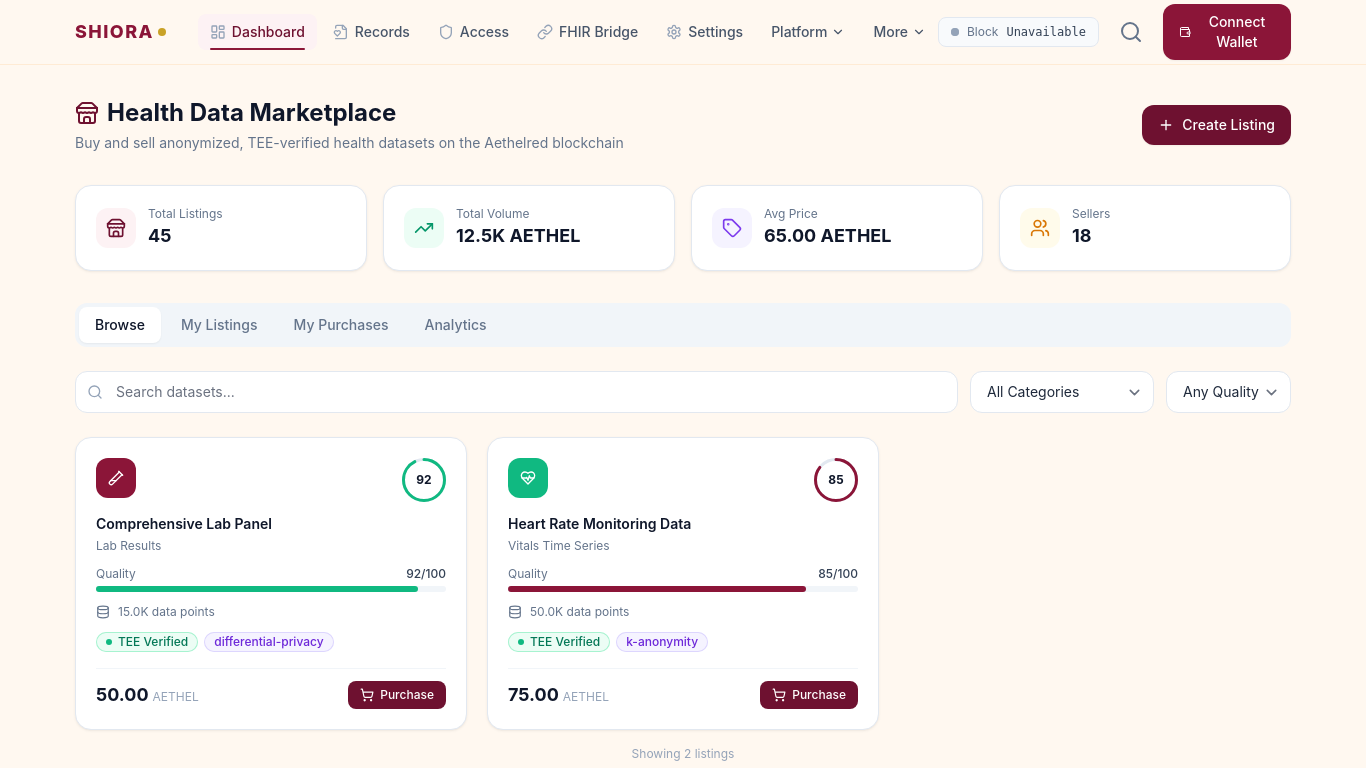
MarketplacePage › confirms purchase button is disabled when wallet balance is zero
The width and height of the screenshot is (1366, 768).
Click the button "Purchase" in the row of "50.00" at (397, 695), box [348,681,446,709]
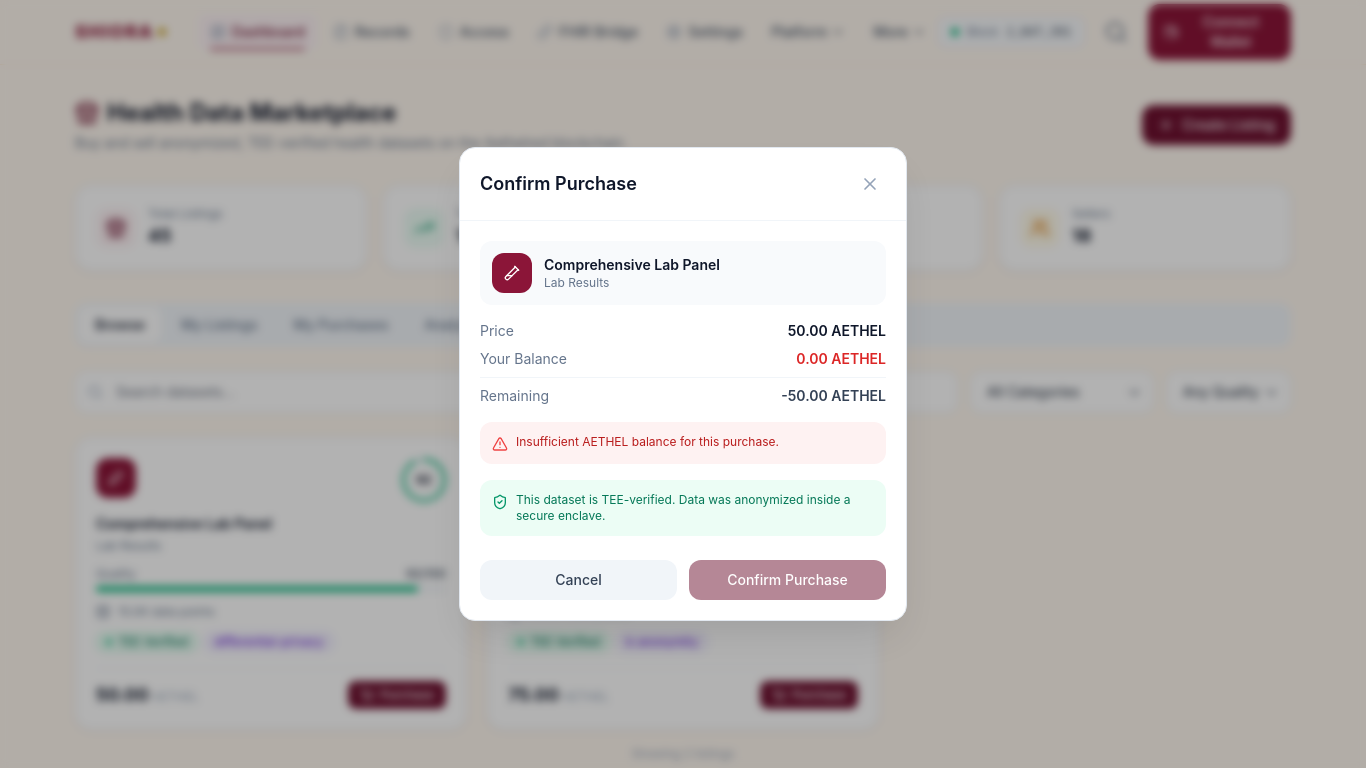
Now the button "Confirm Purchase" is disabled, box [689,560,886,600]
